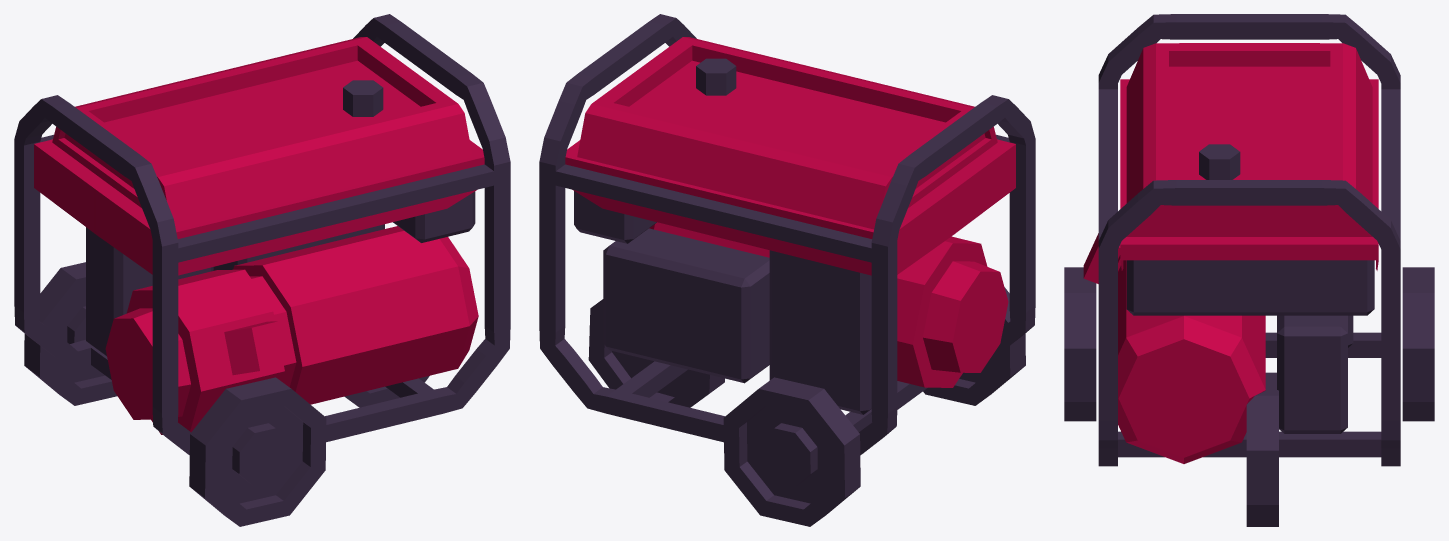
Rendered from Generator 1.fbx.
3 views of the same model, side by side, from view 1: azimuth 30°, elevation 25°; view 2: azimuth 150°, elevation 25°; view 3: azimuth 270°, elevation 25° (orthographic). The views are drawn at different scales.
Parts seen in each view (by area): view 1: Cube.016, Cylinder.008, Cube.015, Cylinder.007, Cylinder.006, Cube.017, Cube.019, Cylinder.010, Cube.018, Cylinder.009; view 2: Cube.016, Cube.015, Cube.018, Cylinder.006, Cylinder.008, Cube.017, Cylinder.009, Cylinder.007, Cube.019, Cylinder.010; view 3: Cube.016, Cube.015, Cylinder.008, Cube.019, Cube.018, Cylinder.006, Cylinder.007, Cylinder.009, Cylinder.010.
Part boxes in pixels (bbox=[...]): Cube.016: bbox=[34, 37, 484, 275]; Cylinder.008: bbox=[105, 226, 478, 434]; Cube.015: bbox=[14, 14, 510, 454]; Cylinder.007: bbox=[189, 377, 326, 526]; Cylinder.006: bbox=[24, 262, 117, 405]; Cube.017: bbox=[86, 227, 213, 356]; Cube.019: bbox=[393, 191, 475, 242]; Cylinder.010: bbox=[343, 80, 383, 116]; Cube.018: bbox=[213, 224, 384, 270]; Cylinder.009: bbox=[344, 375, 429, 407]; Cube.016: bbox=[565, 37, 1015, 275]; Cube.015: bbox=[539, 14, 1035, 455]; Cube.018: bbox=[603, 228, 769, 383]; Cylinder.006: bbox=[723, 377, 860, 526]; Cylinder.008: bbox=[649, 222, 1008, 387]; Cube.017: bbox=[769, 250, 871, 414]; Cylinder.009: bbox=[588, 299, 724, 407]; Cylinder.007: bbox=[923, 287, 1025, 405]; Cube.019: bbox=[574, 191, 656, 243]; Cylinder.010: bbox=[696, 58, 736, 95]; Cube.016: bbox=[1120, 43, 1378, 270]; Cube.015: bbox=[1098, 14, 1400, 466]; Cylinder.008: bbox=[1083, 233, 1265, 463]; Cube.019: bbox=[1126, 260, 1374, 315]; Cube.018: bbox=[1277, 315, 1347, 433]; Cylinder.006: bbox=[1402, 267, 1434, 421]; Cylinder.007: bbox=[1064, 267, 1096, 421]; Cylinder.009: bbox=[1246, 372, 1278, 526]; Cylinder.010: bbox=[1199, 144, 1240, 179].
Size of the model in its own units: 97.74 by 89.67 by 85.36.
